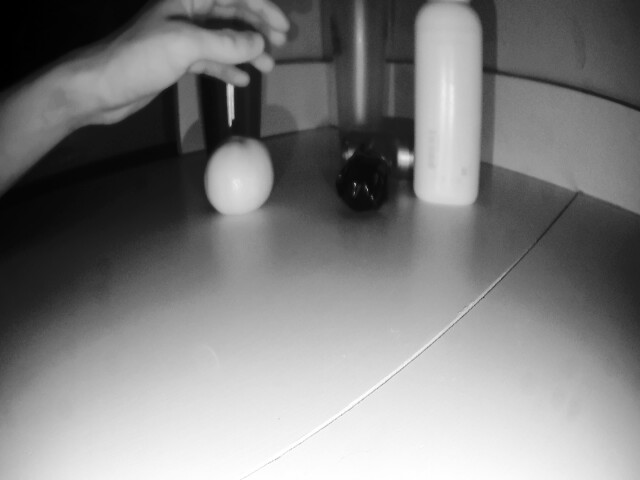silver: (334, 143, 399, 221)
